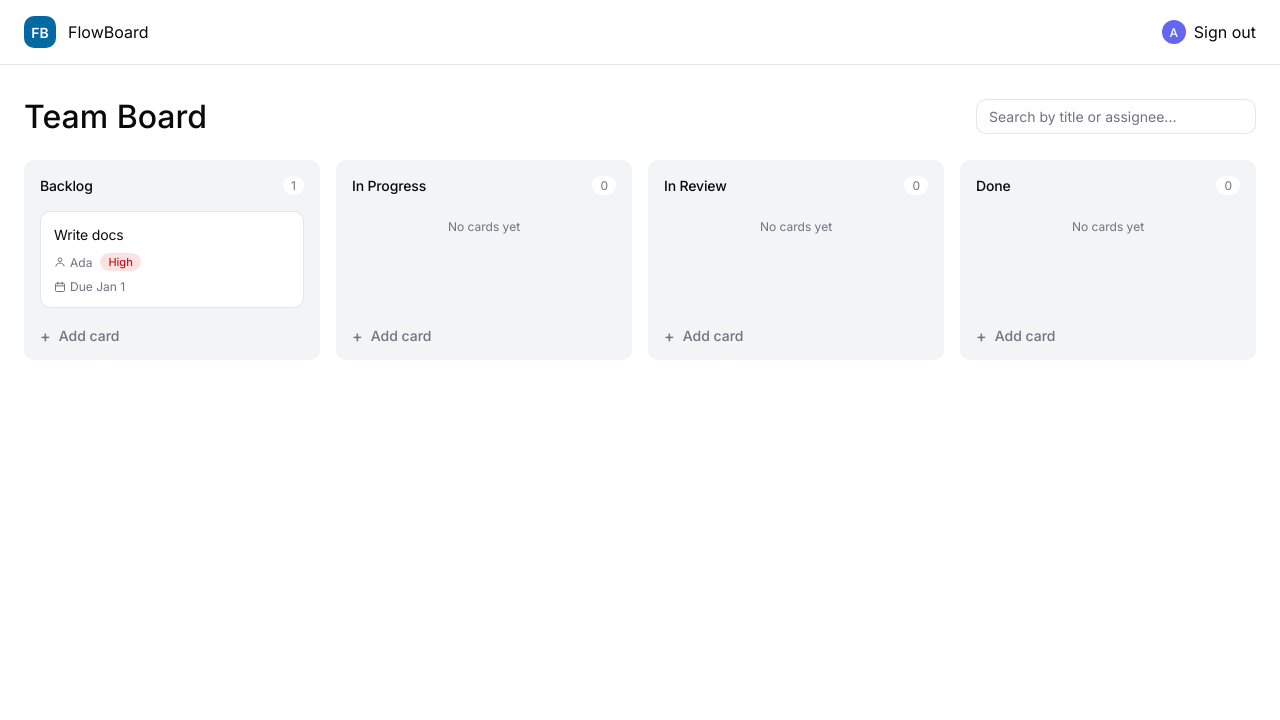
Test case: deleting cards › requires confirmation then deletes by id
This screenshot has width=1280, height=720.
Check: the heading "Team Board" is shown, box [24,97,207,136]
Click the button "Write docs Ada High Due Jan 1" at point(89, 234), box [40,211,304,308]
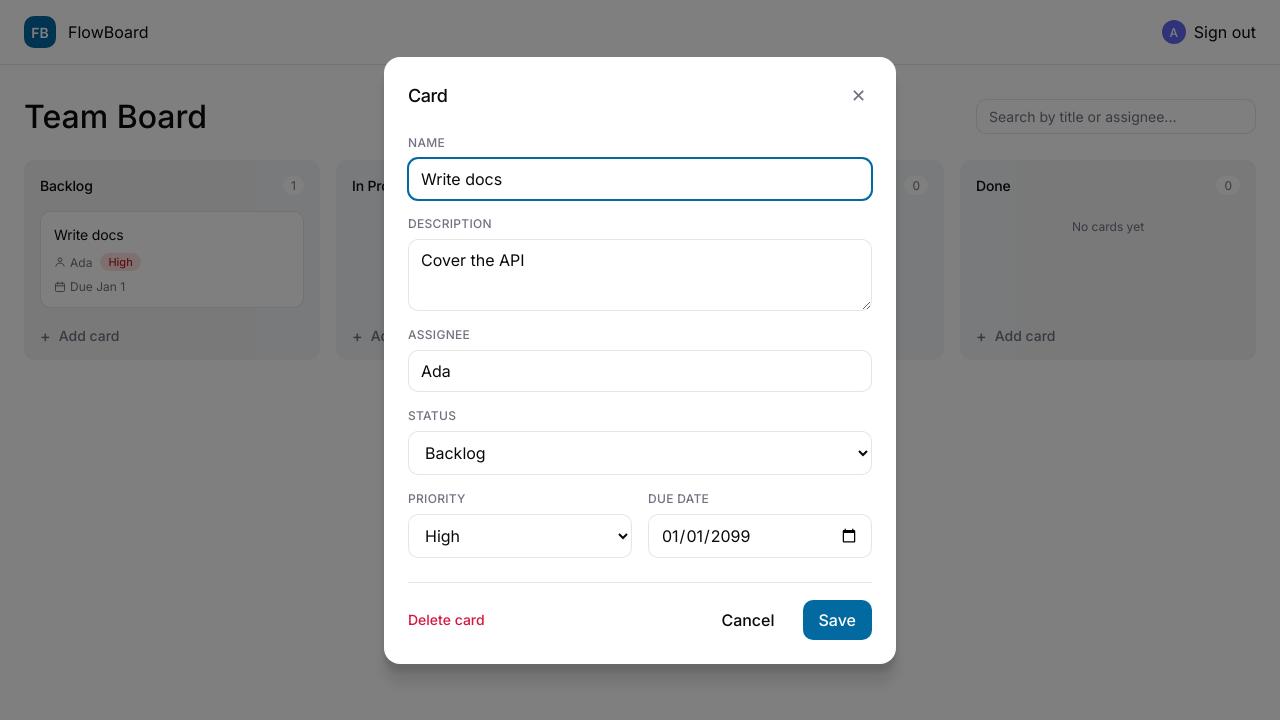
Click the button "Delete card" at point(446, 620), box [408,611,485,628]
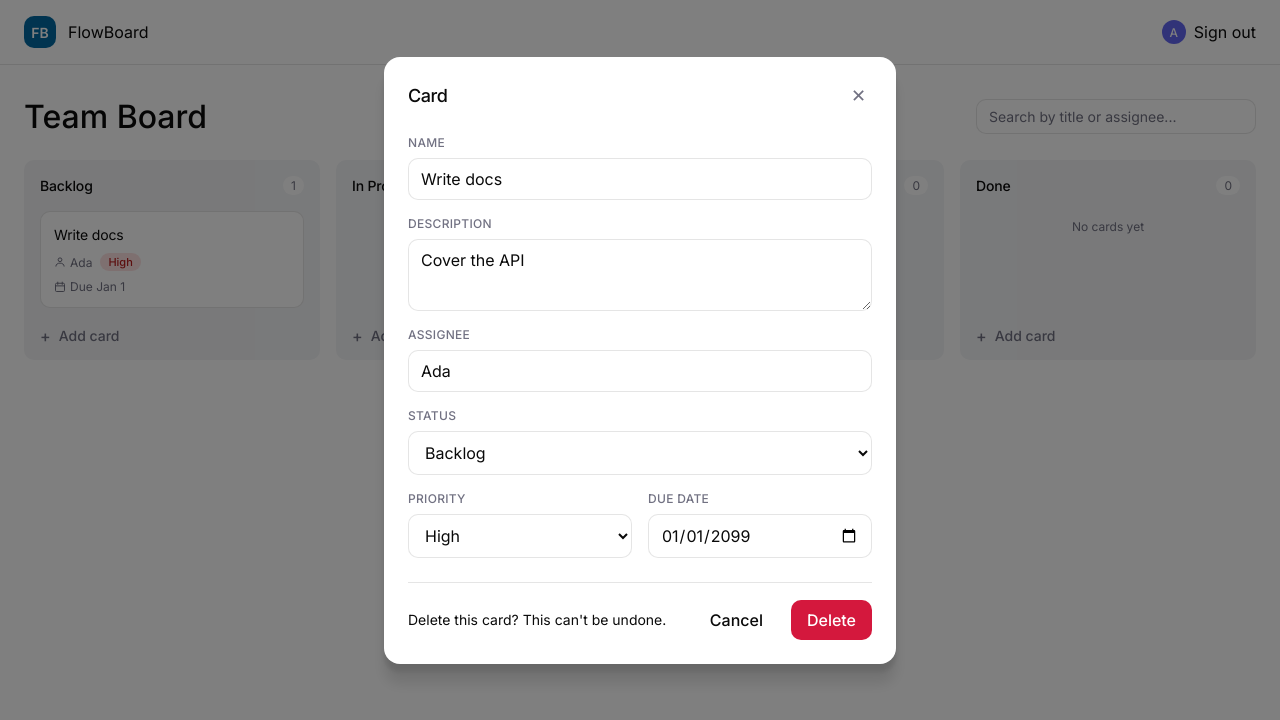
Click the button "Delete" at point(831, 620), box [791,600,872,640]
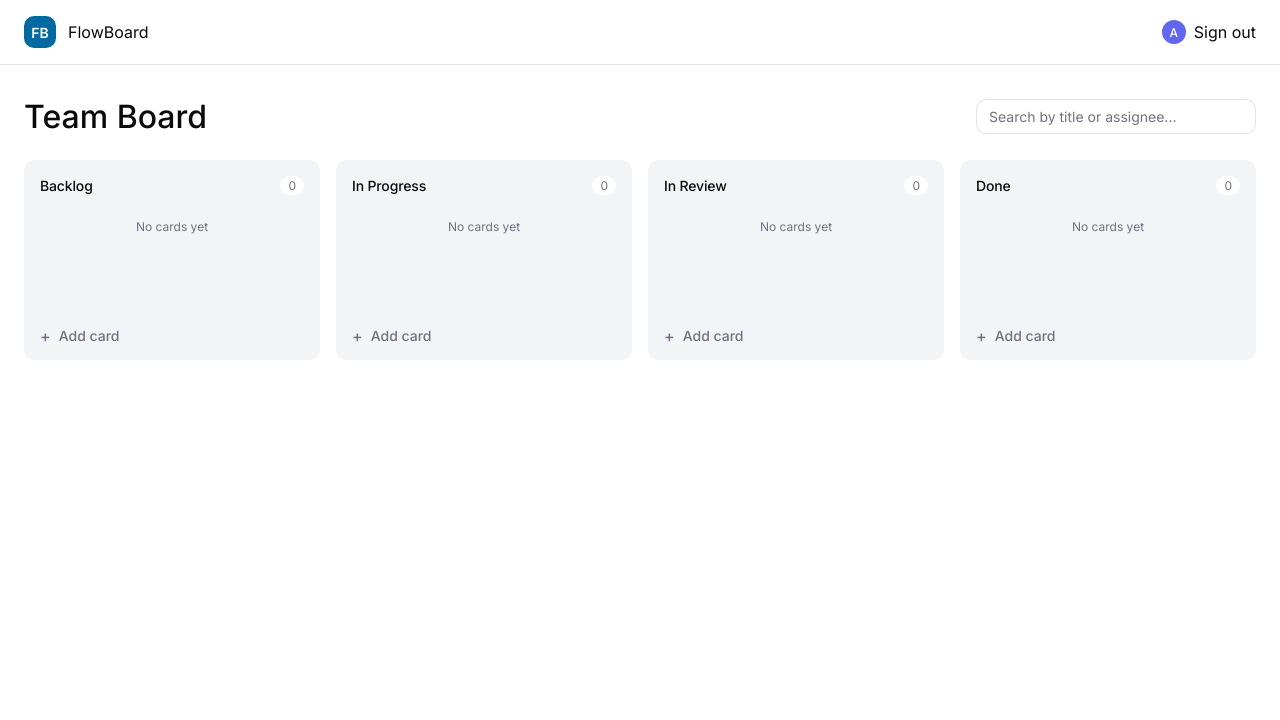
Check: the button "Write docs" is gone
